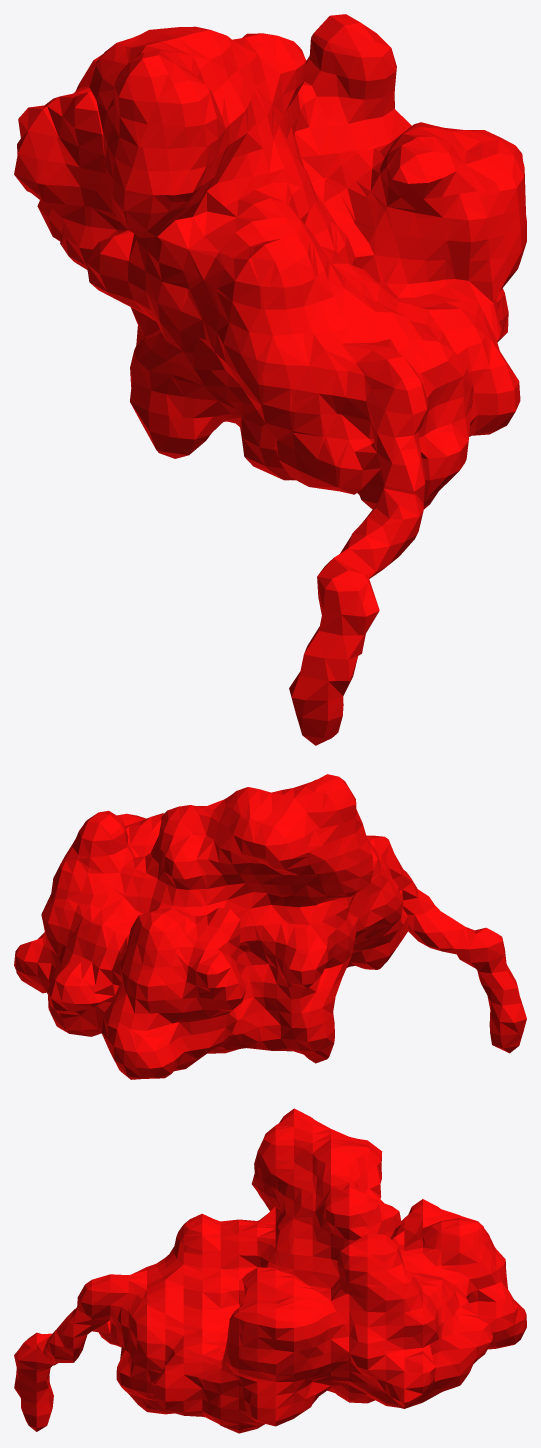
File: tamB_coarse.dae
The picture shows the model from 3 angles, top to bottom: view 1: azimuth 30°, elevation 25°; view 2: azimuth 150°, elevation 25°; view 3: azimuth 270°, elevation 25°; orthographic projection. The views are drawn at different scales.
Visible parts, largest first — view 1: tamB; view 2: tamB; view 3: tamB.
Part boxes in pixels (left/top/right/bottom): tamB: left=14, top=14, right=526, bottom=745; tamB: left=14, top=774, right=526, bottom=1079; tamB: left=14, top=1108, right=526, bottom=1433.
Bounding box in the file's own units: 88.53 × 105 × 148.
